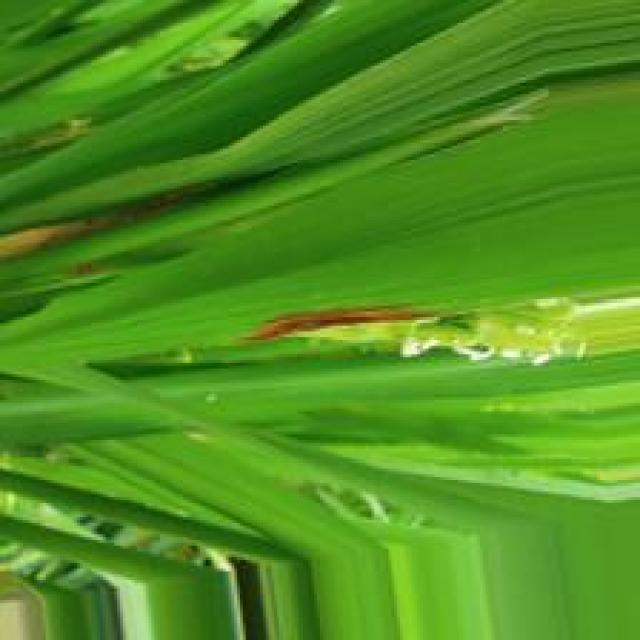Leaf_Blast: (250, 306, 441, 344)
